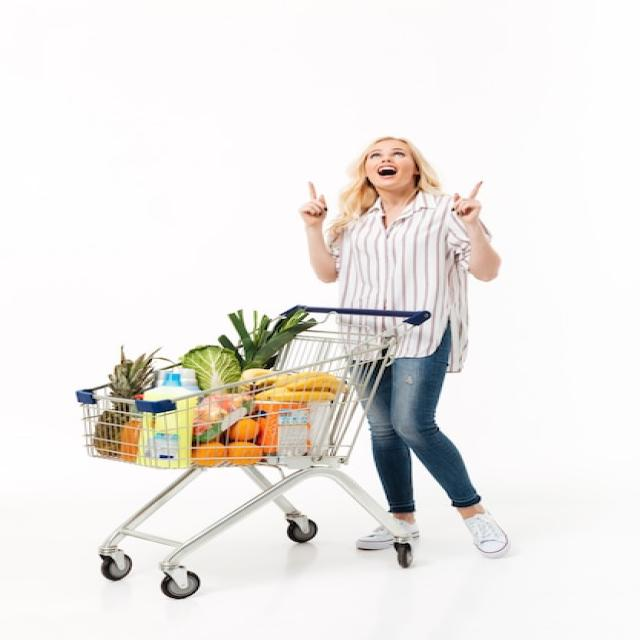Person: (299, 138, 510, 559)
